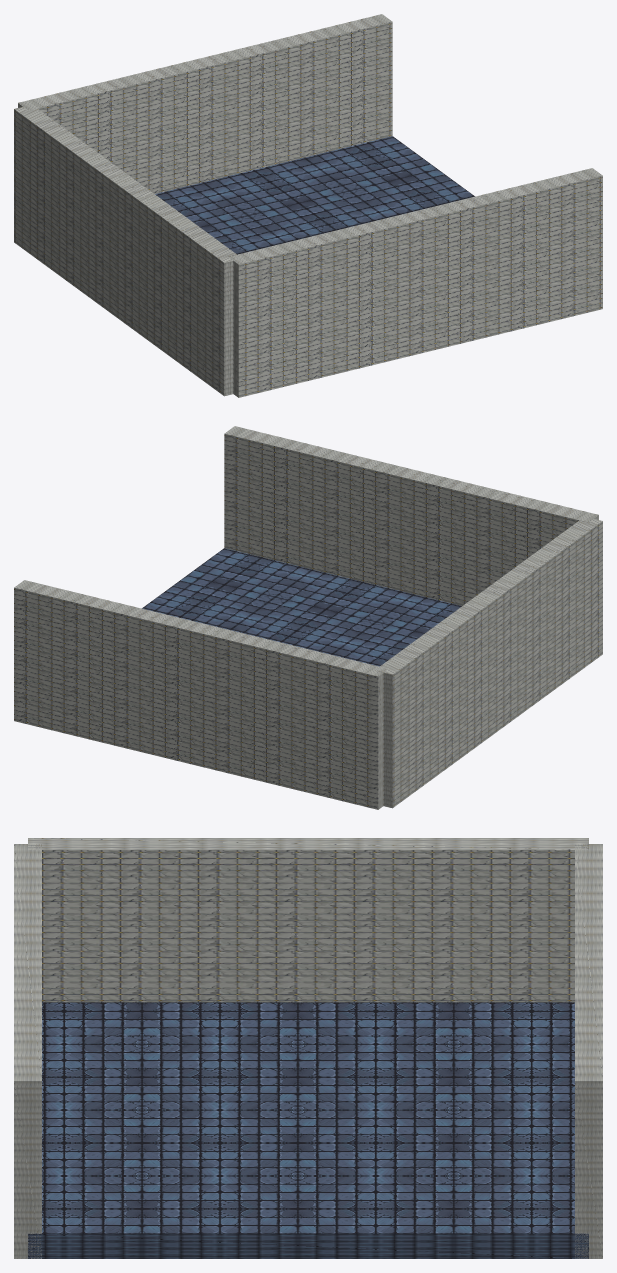
Rendered from spawn.glb.
3 views of the same model, one above another, from view 1: azimuth 30°, elevation 25°; view 2: azimuth 150°, elevation 25°; view 3: azimuth 270°, elevation 25° (orthographic). The views are drawn at different scales.
Parts seen in each view (by area): view 1: Cube.003, Cube.002, Cube, Cube.001; view 2: Cube.002, Cube.003, Cube, Cube.001; view 3: Cube.001, Cube, Cube.002, Cube.003.
Boxes of the visible parts, x1,y1,x2,y2 form: Cube.003: [229, 168, 602, 397]; Cube.002: [18, 14, 392, 193]; Cube: [14, 107, 241, 396]; Cube.001: [155, 136, 474, 254]; Cube.002: [14, 580, 387, 809]; Cube.003: [224, 426, 598, 605]; Cube: [375, 519, 602, 808]; Cube.001: [142, 548, 461, 666]; Cube.001: [28, 1002, 588, 1258]; Cube: [28, 838, 588, 1002]; Cube.002: [575, 844, 602, 1258]; Cube.003: [14, 844, 41, 1258].
Size of what is drawn, in the model's own units: 41 by 14 by 42.
2 materials, 2 textured.
